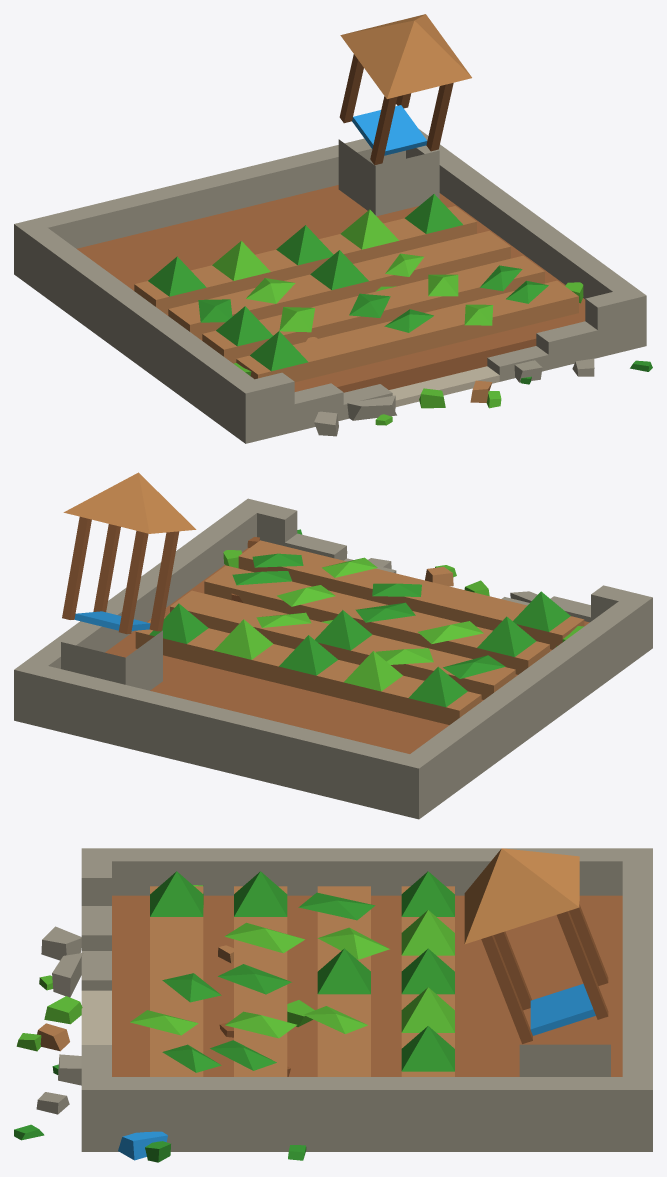
Rendered from field_t3_v2_dmg1.glb.
3 renders of one model, top to bottom at view 1: azimuth 30°, elevation 25°; view 2: azimuth 150°, elevation 25°; view 3: azimuth 270°, elevation 25°, orthographic. The views are drawn at different scales.
Visible parts, largest first — view 1: field_t3_v2_dmg1; view 2: field_t3_v2_dmg1; view 3: field_t3_v2_dmg1.
Boxes of the visible parts, x1,y1,x2,y2 form: field_t3_v2_dmg1: [14, 14, 652, 443]; field_t3_v2_dmg1: [14, 472, 652, 819]; field_t3_v2_dmg1: [14, 848, 652, 1162].
Size of the model in its own units: 0.788 by 0.3859 by 0.8387.
Materials: 1 (1 with a texture image).
